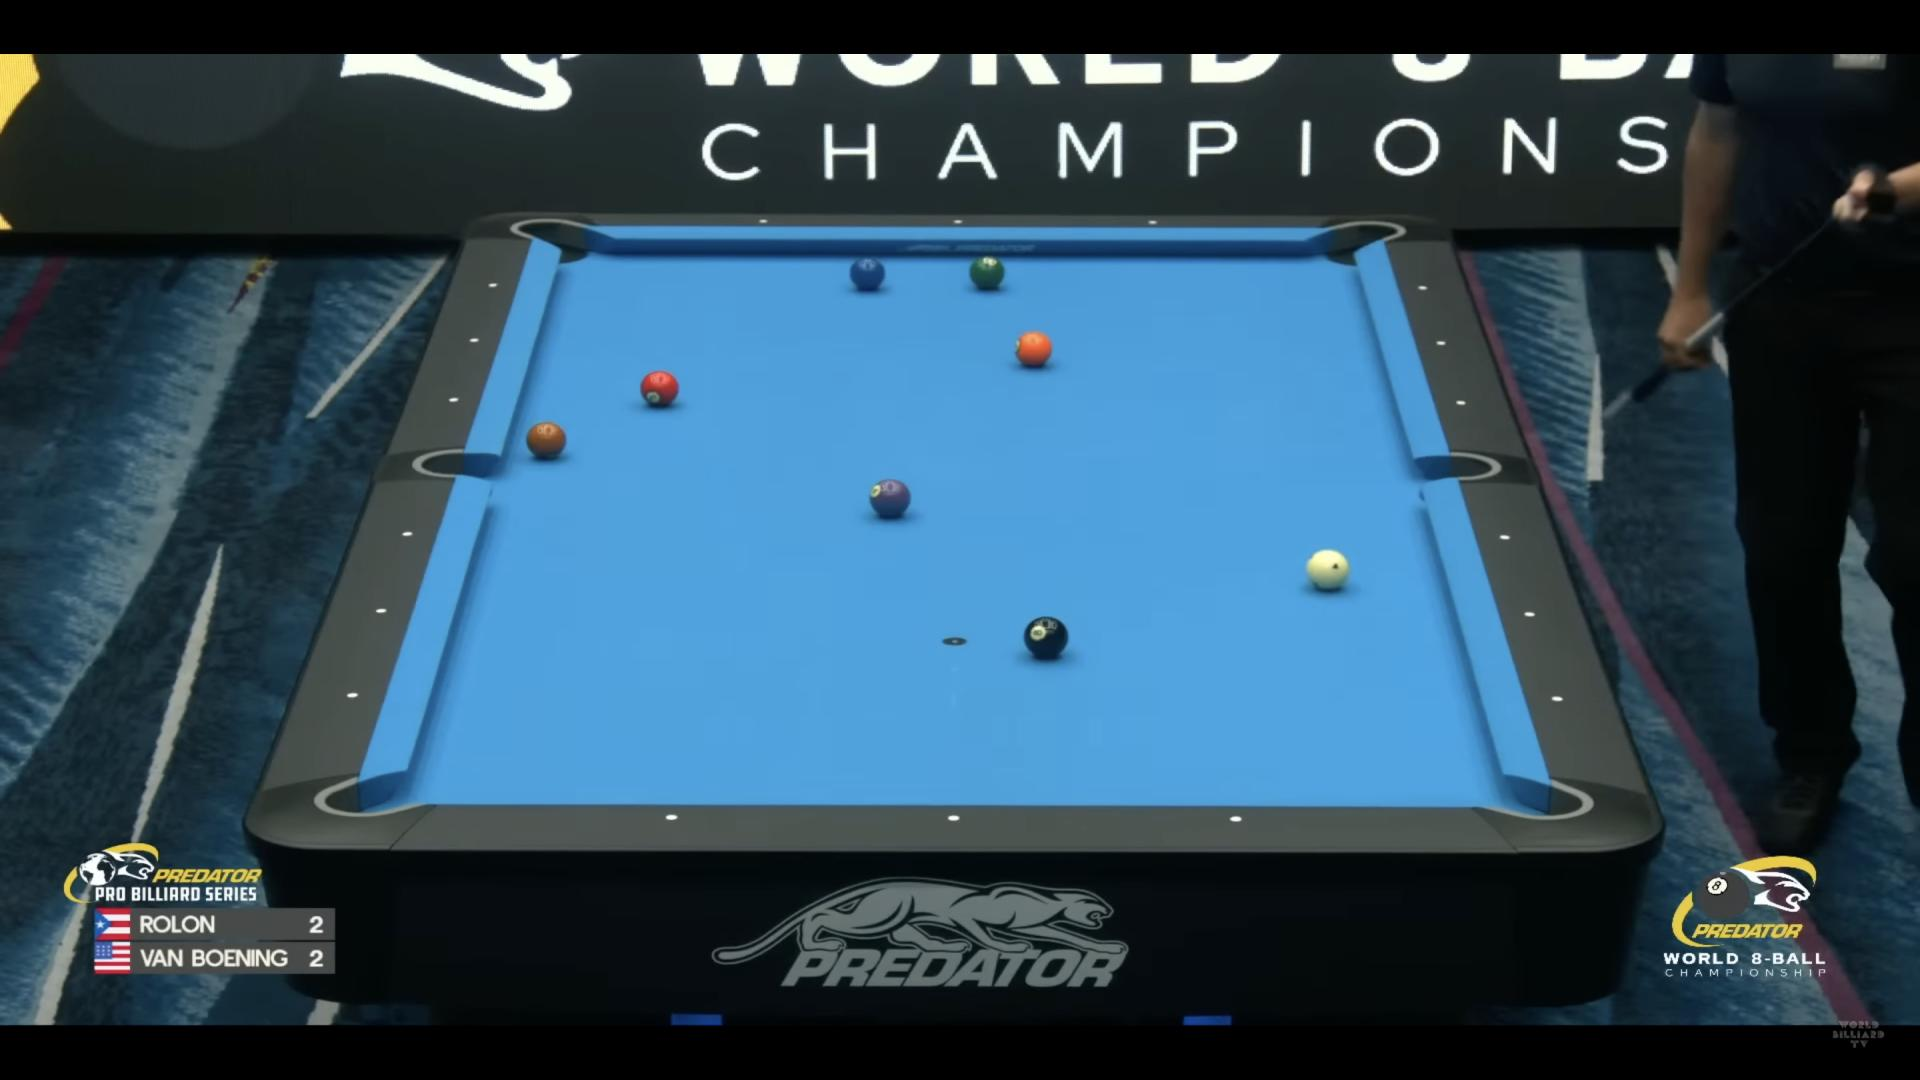Black: (1023, 616, 1068, 658)
Cue: (1305, 549, 1349, 589)
Dot: (945, 811, 963, 827), (662, 811, 679, 825), (1228, 811, 1245, 825), (1520, 608, 1538, 622), (1549, 692, 1565, 705), (1497, 531, 1513, 545), (345, 688, 359, 702), (400, 529, 414, 541), (376, 605, 389, 617), (468, 334, 480, 345), (1435, 338, 1447, 349), (1416, 282, 1428, 294), (447, 394, 459, 405), (487, 280, 498, 290), (1455, 397, 1466, 407), (952, 218, 964, 227), (1147, 218, 1159, 227), (758, 216, 769, 225)
Solid: (870, 479, 911, 517), (526, 422, 567, 458), (640, 371, 679, 406), (1015, 331, 1052, 367), (969, 256, 1005, 287), (849, 258, 885, 290)
